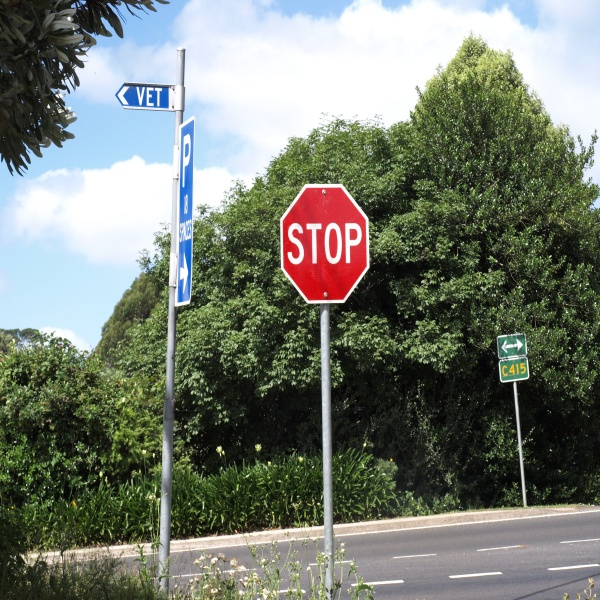stop: (281, 181, 369, 300)
